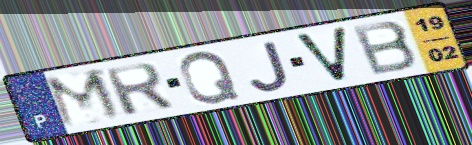B: (349, 19, 421, 78)
J: (247, 39, 294, 93)
M: (39, 66, 128, 131)
Q: (177, 49, 244, 106)
R: (101, 61, 178, 118)
V: (290, 24, 350, 85)
